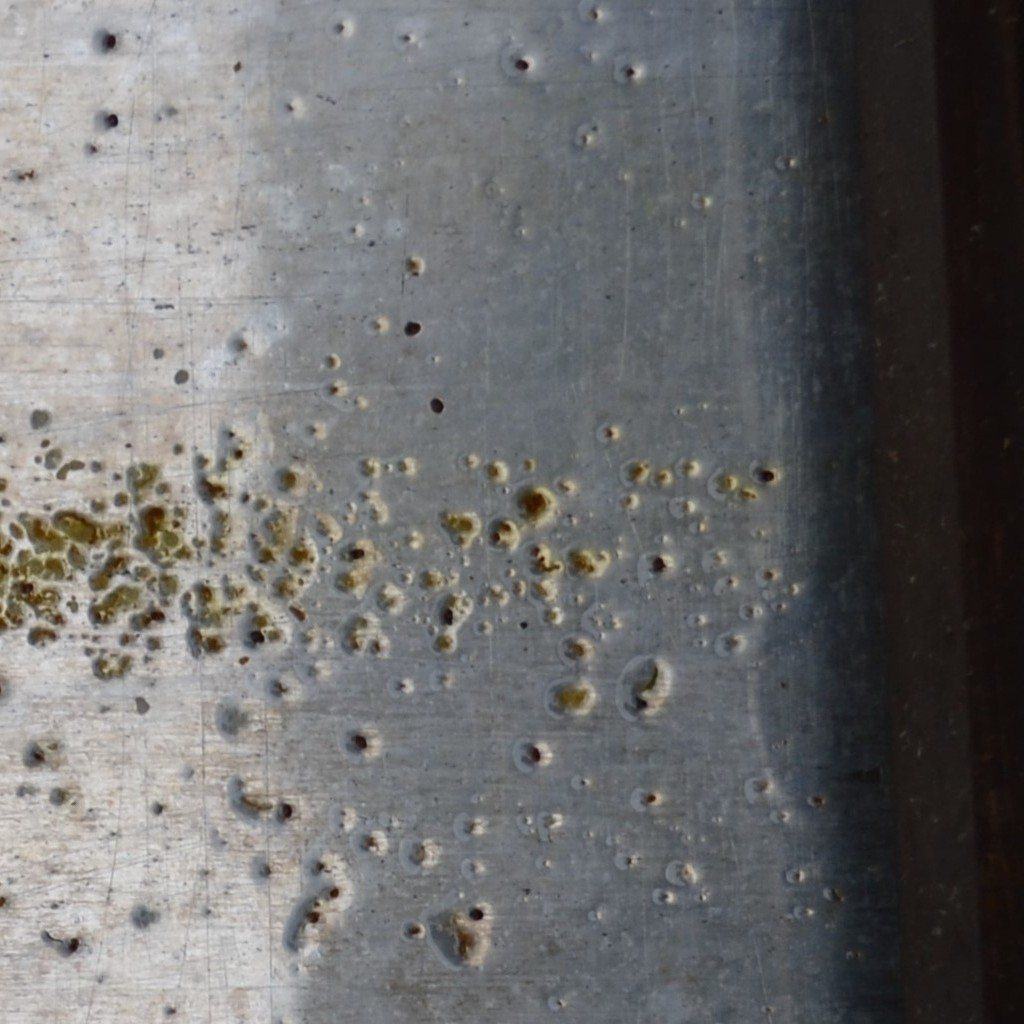varroa: (524, 739, 548, 769), (755, 459, 778, 490), (647, 550, 666, 584), (353, 726, 373, 756), (102, 103, 121, 133), (467, 904, 490, 927), (401, 316, 421, 341), (275, 800, 297, 821), (102, 27, 120, 49), (428, 394, 444, 417), (347, 543, 366, 562), (247, 626, 266, 645), (441, 606, 456, 629), (514, 56, 532, 75)
